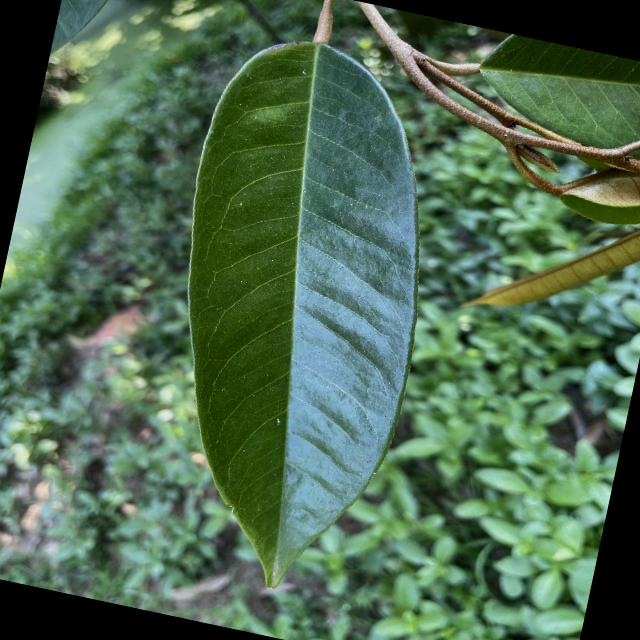No Disease: (105, 16, 486, 610)
